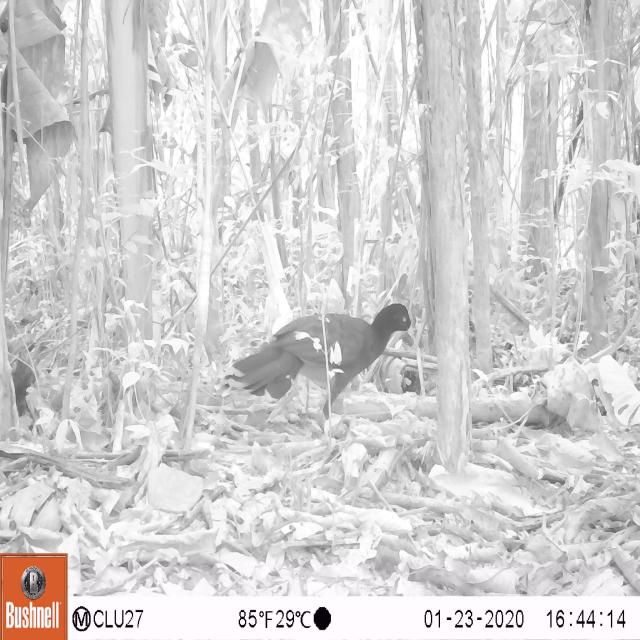Salvins Curassow: (222, 282, 422, 442)
